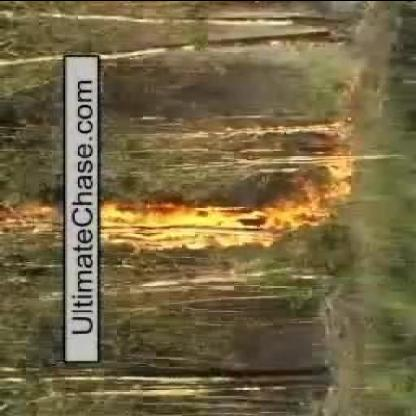foggia-v2-map80-epoch100 - v1 4323: (104, 184, 332, 252), (2, 199, 60, 242)
